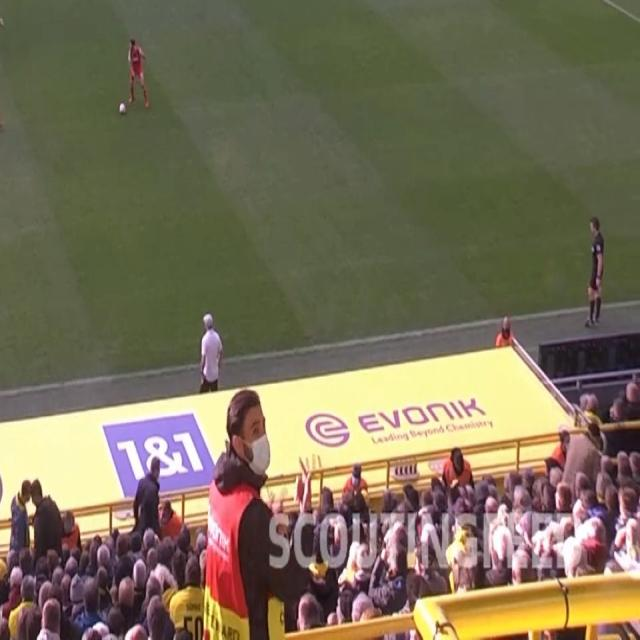ball: (118, 102, 126, 116)
